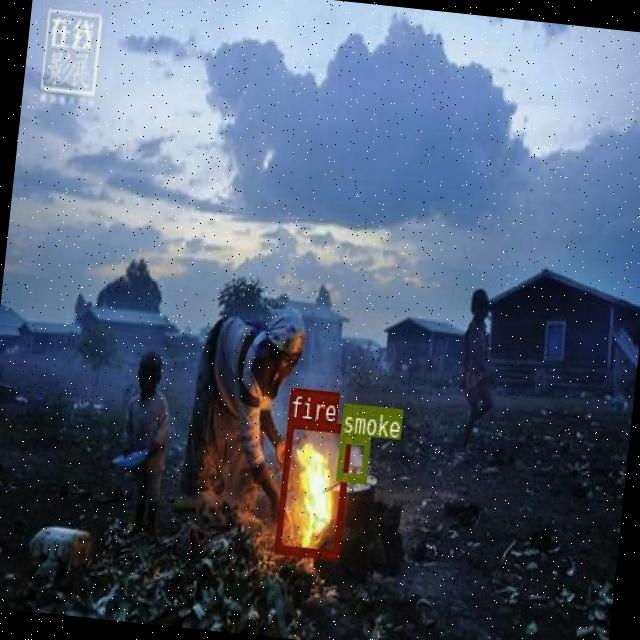fire: (272, 418, 350, 558)
smoke: (336, 432, 369, 481)
